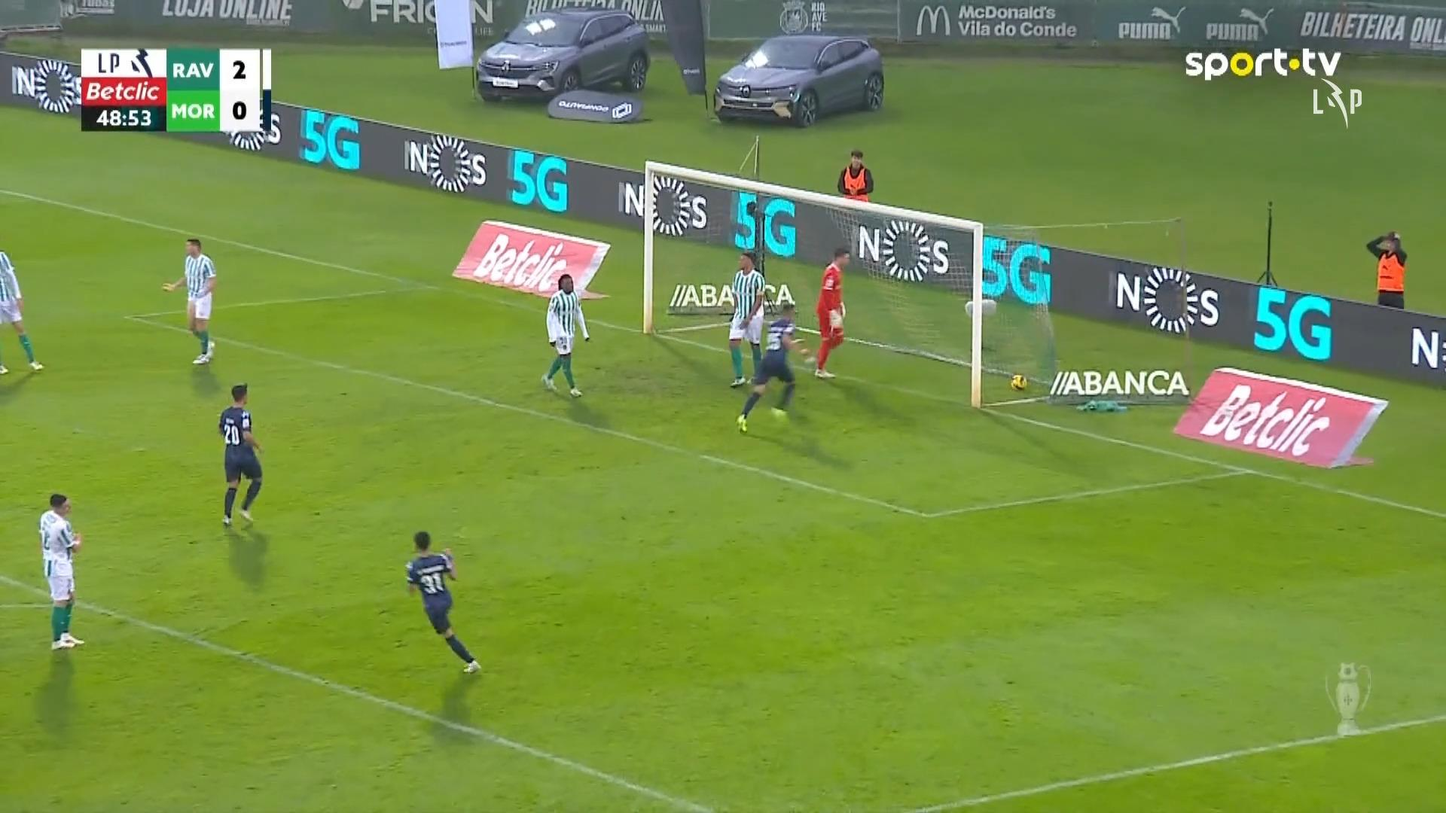ball: (1010, 373, 1026, 389)
goalkeeper: (812, 246, 851, 379)
player: (404, 530, 481, 673), (734, 295, 810, 434), (38, 492, 85, 650), (161, 237, 217, 364), (217, 382, 264, 526), (540, 273, 590, 397), (0, 249, 44, 374), (727, 251, 766, 387)
